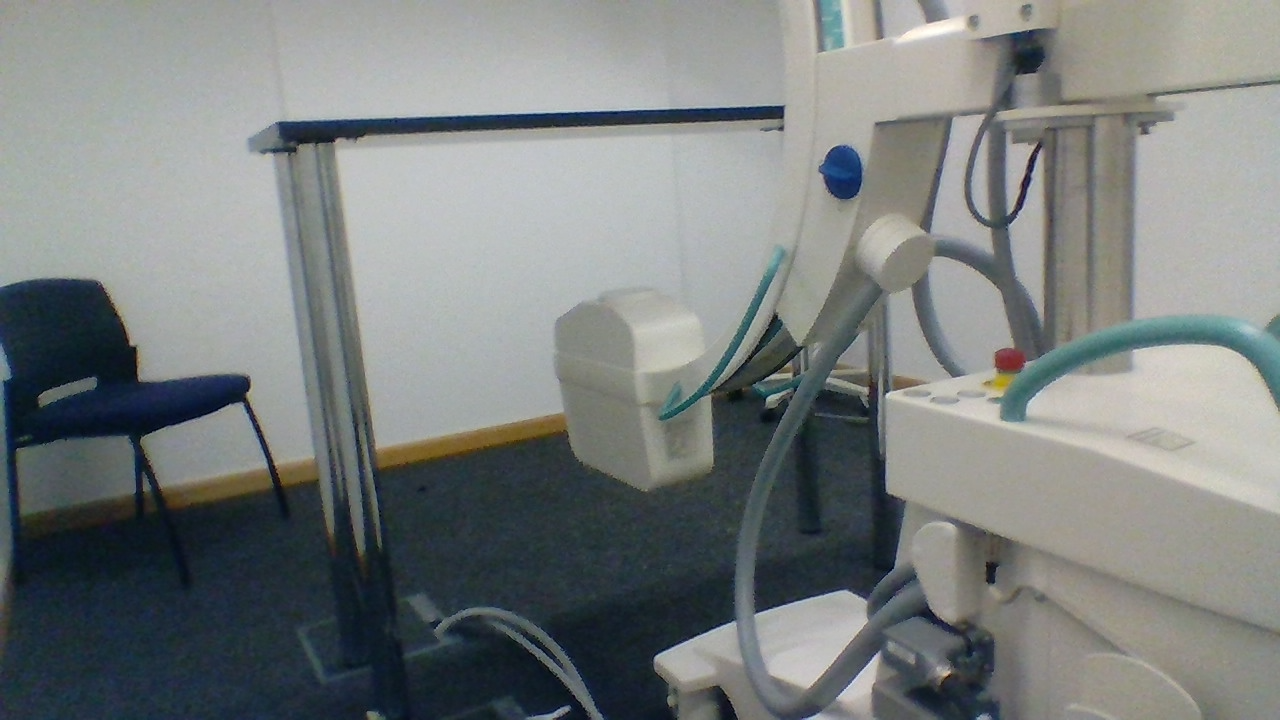carmDOWN: (552, 288, 709, 371)
carmLOCK: (815, 143, 865, 199)
